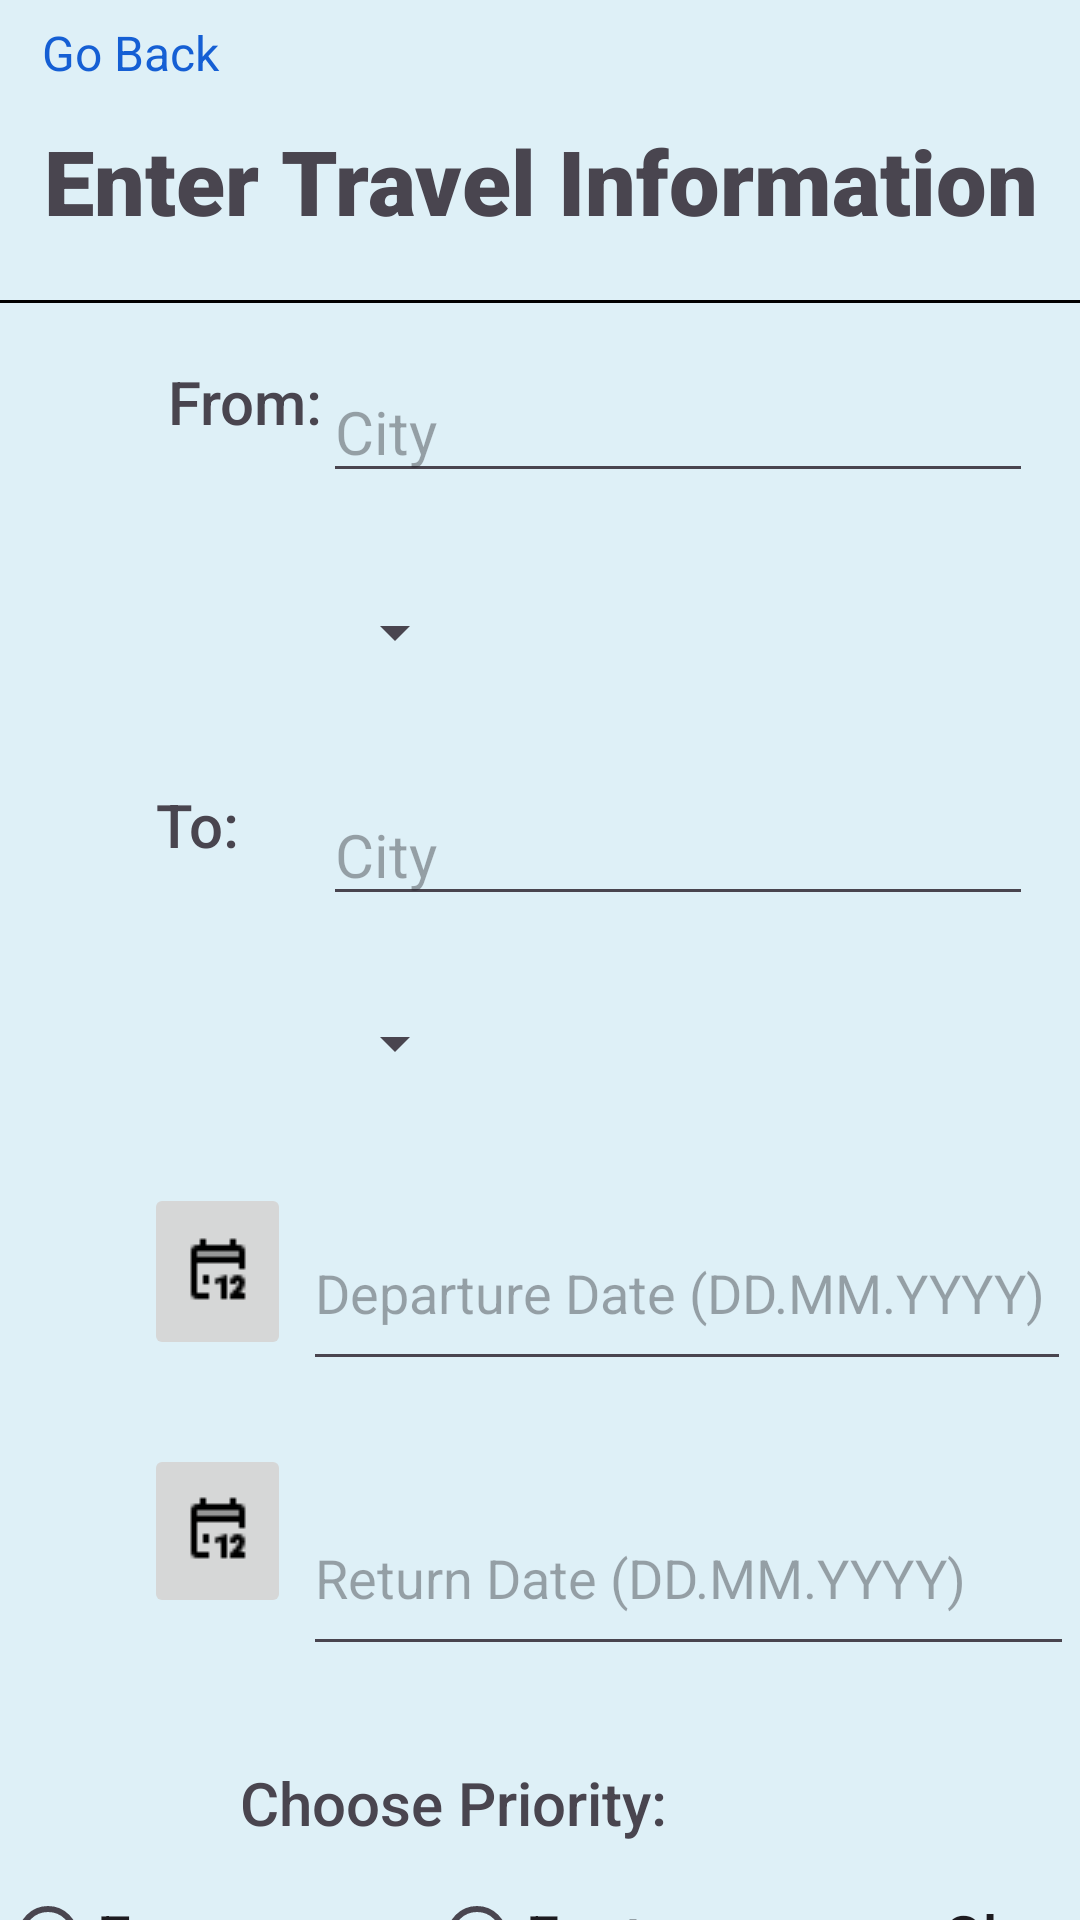

Where icons sit on this 1080w x 1920h app screen, as (x1, y1, x2, y2):
calender: (156, 1201, 279, 1342), (156, 1462, 279, 1600)
